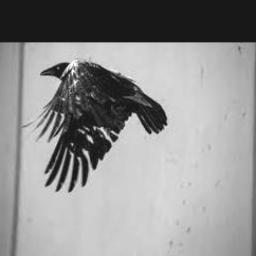Crow: (21, 60, 168, 192)
